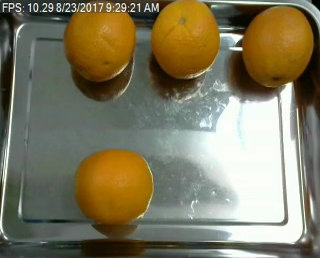Orange: (74, 148, 154, 226), (243, 4, 313, 89), (63, 2, 134, 82), (151, 1, 221, 80)
